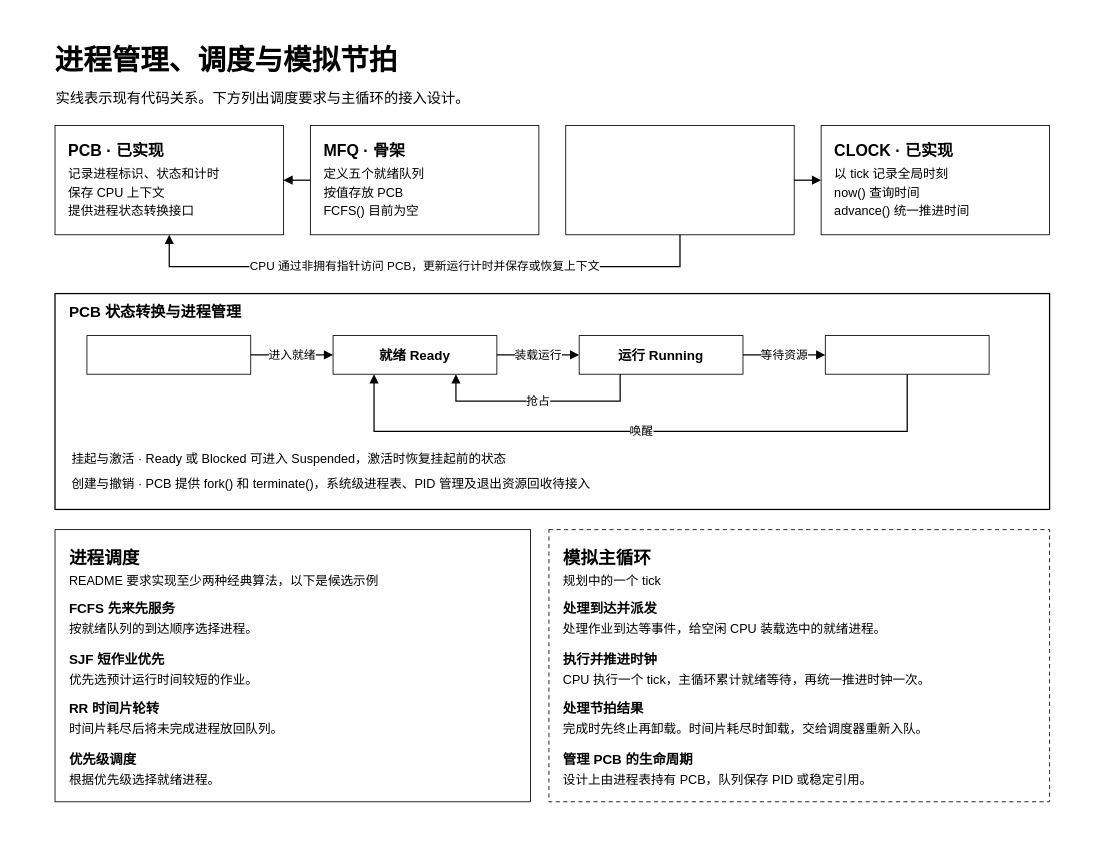
Some shapes in this 1104 by 852 pixel diagram are drawn without their labels. Here are the shapes that lost their labels. From the top down, the centre of each, then its label:
At point 679,180: "CPU · 已实现 装载、执行、卸载进程 返回节拍结果 通过 now() 读取共享时钟".
At point 168,354: "新建 New".
At point 906,354: "阻塞 Blocked".
